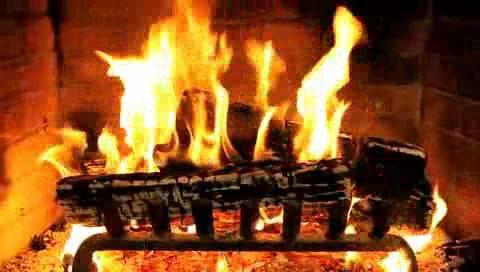fire: (101, 1, 364, 165)
